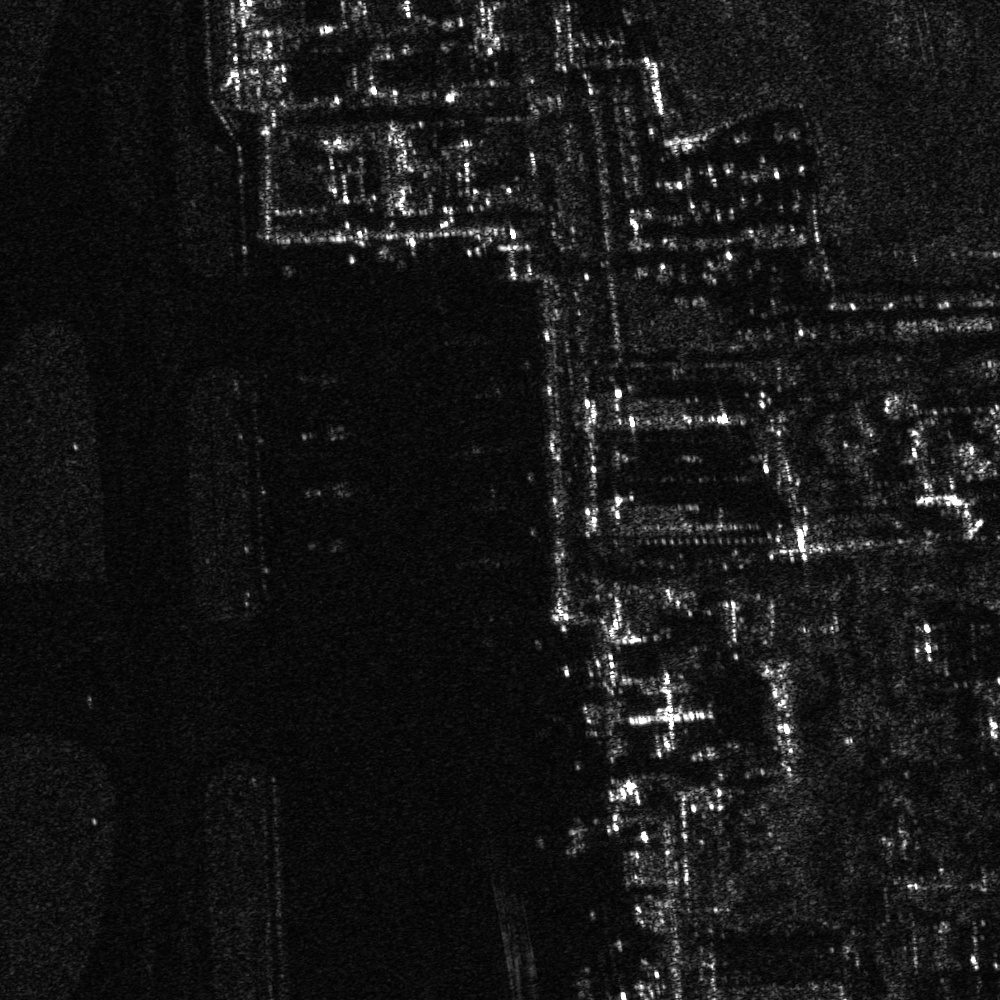ARJ21: (298, 468, 367, 512), (295, 412, 358, 455)
other: (303, 526, 359, 565), (286, 360, 342, 394)
